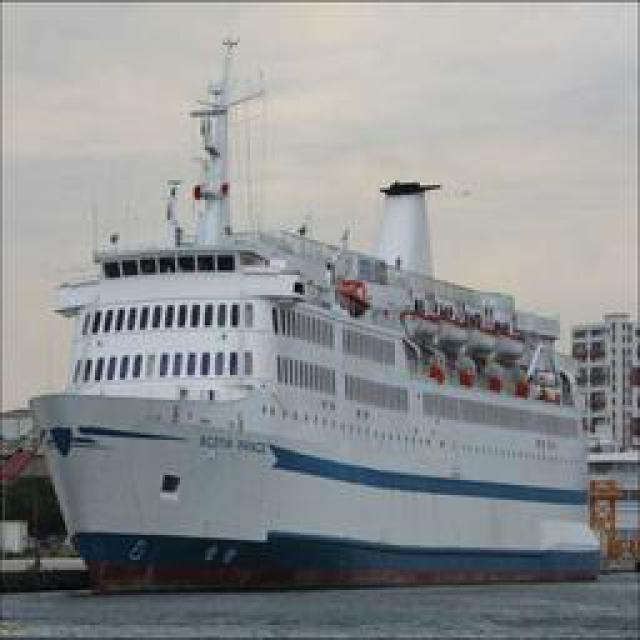Ship: (29, 100, 612, 595)
